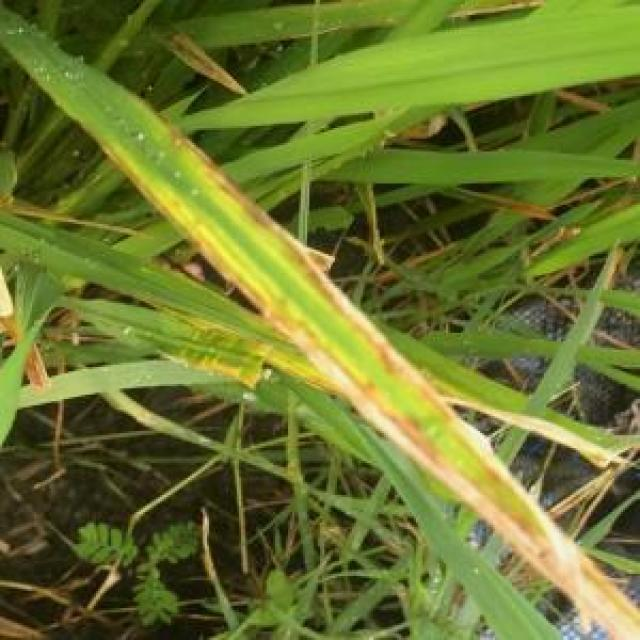Bacterial_Leaf_Blight: (254, 226, 446, 467)
